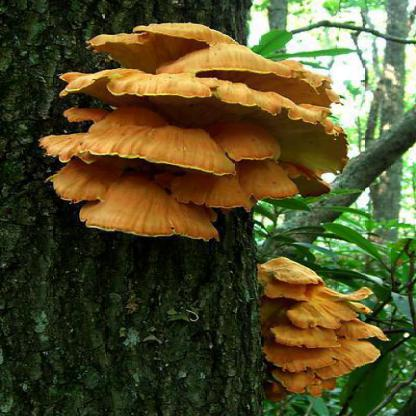CoW: (38, 22, 350, 243), (256, 256, 387, 403)
